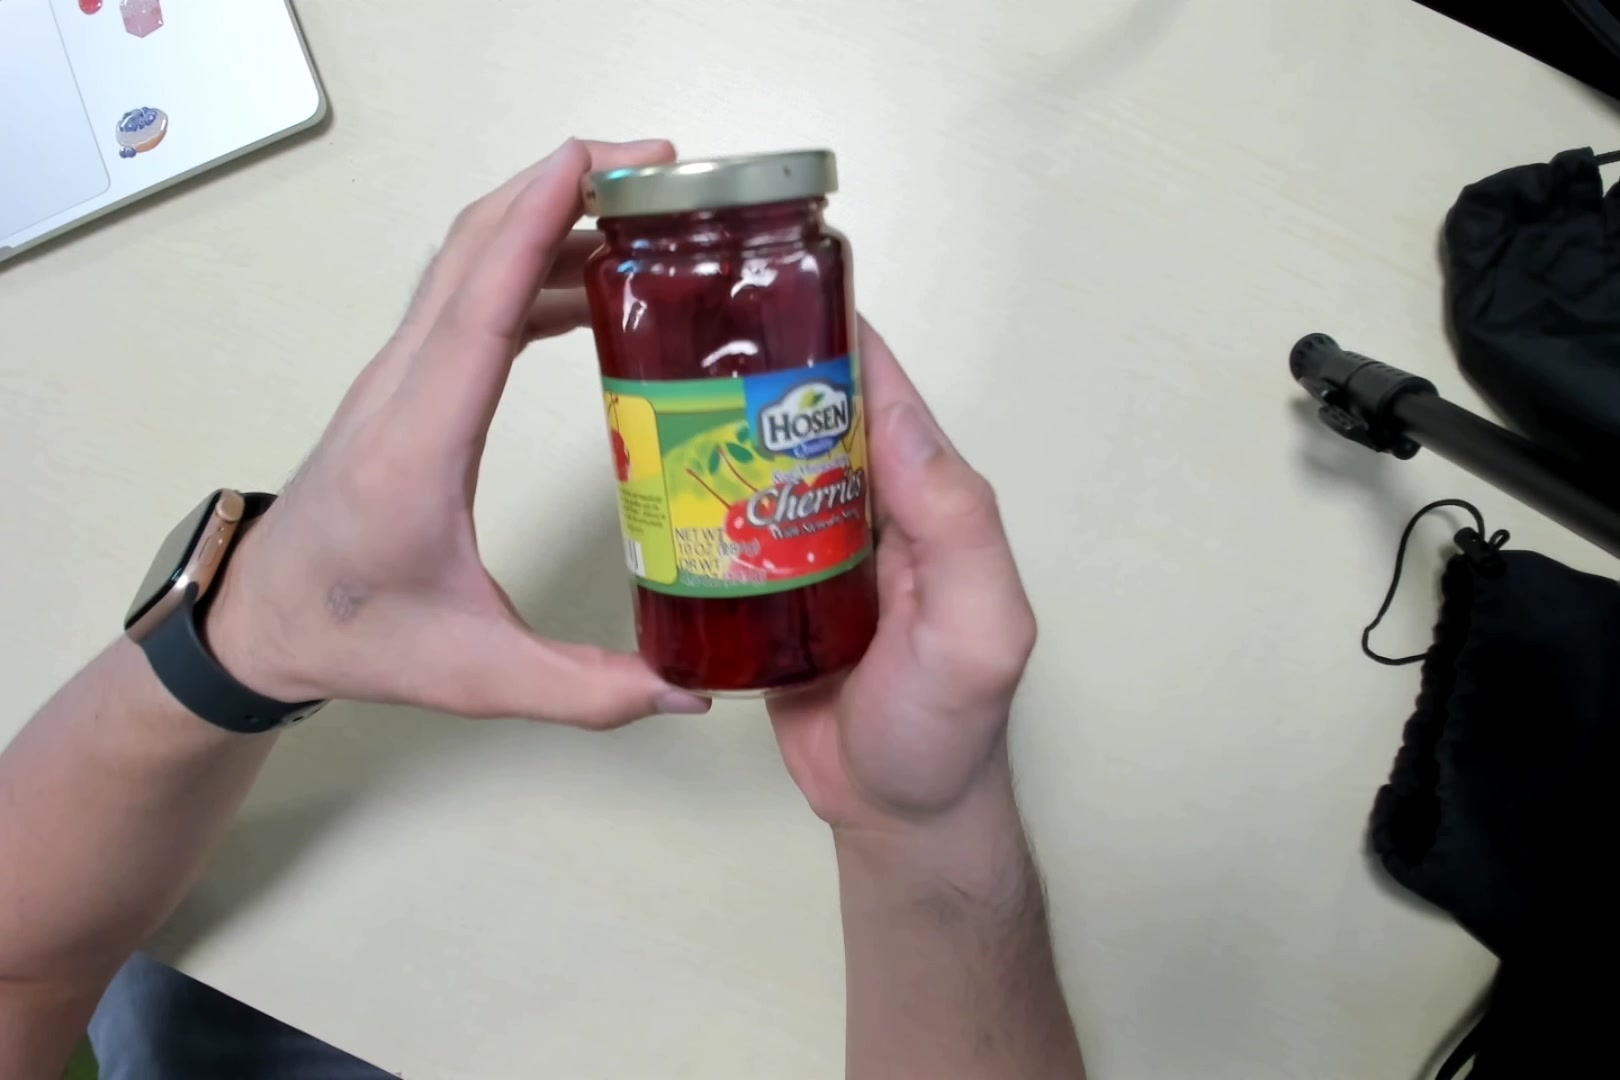OtherBakingNeeds_200-299g_NonHalal_NonHealthy: (581, 153, 877, 687)
